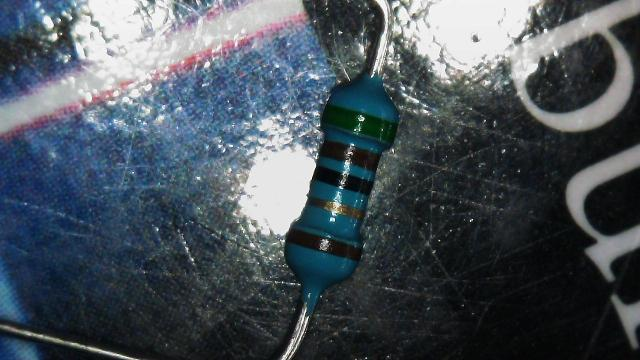black: (314, 165, 372, 194)
brown: (286, 228, 360, 261), (320, 140, 378, 170)
gold: (307, 195, 364, 218)
green: (323, 103, 396, 144)
resistor: (280, 68, 406, 308)
